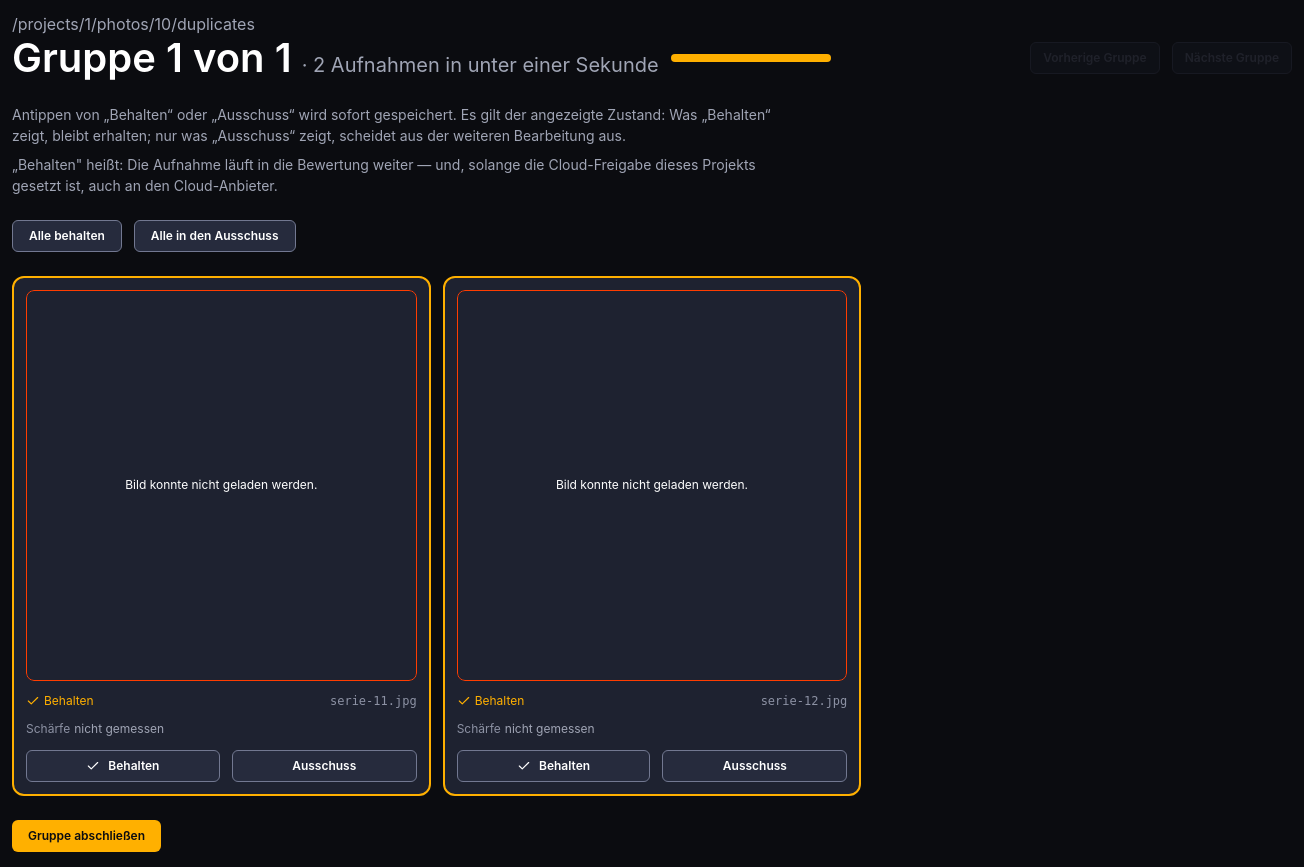
it: DuplicateComparePage - die Hinweise › stehen im Raster und in der Grossansicht vor den Gruppenaktionen, nie eingeklappt
This screenshot has width=1304, height=867.
Step 1. Click the button with aria-label "Reise/serie-11.jpg vergrößern" → (221, 485), box 26,290 -> 417,681
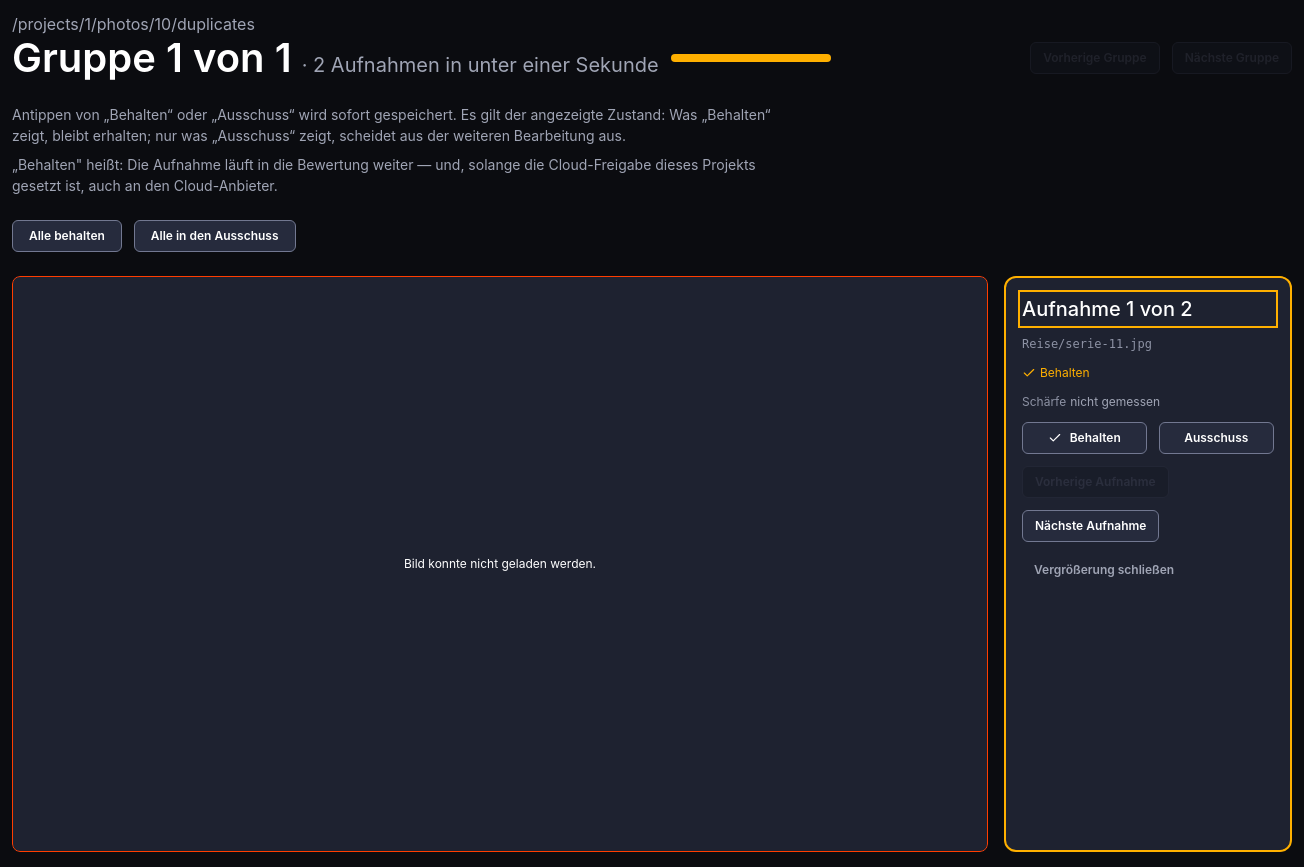
Check: the heading "Aufnahme 1 von 2" is shown, box 1022,297 -> 1193,321
